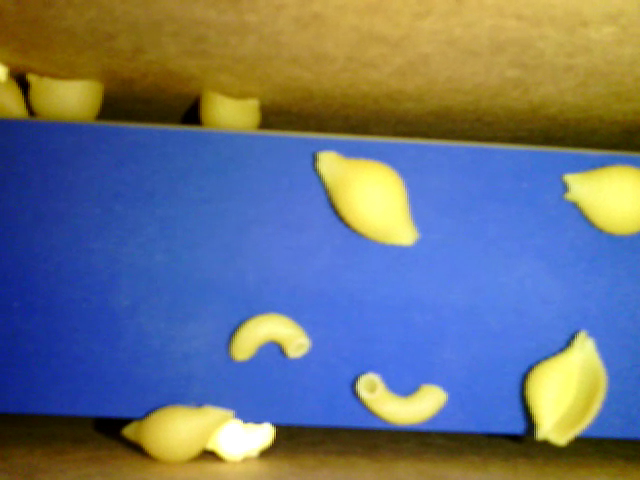elbow: (355, 371, 448, 426), (227, 309, 310, 361)
shell: (313, 150, 419, 247), (523, 329, 609, 446), (122, 401, 237, 462), (560, 164, 639, 235), (25, 69, 105, 120), (199, 89, 259, 130)
